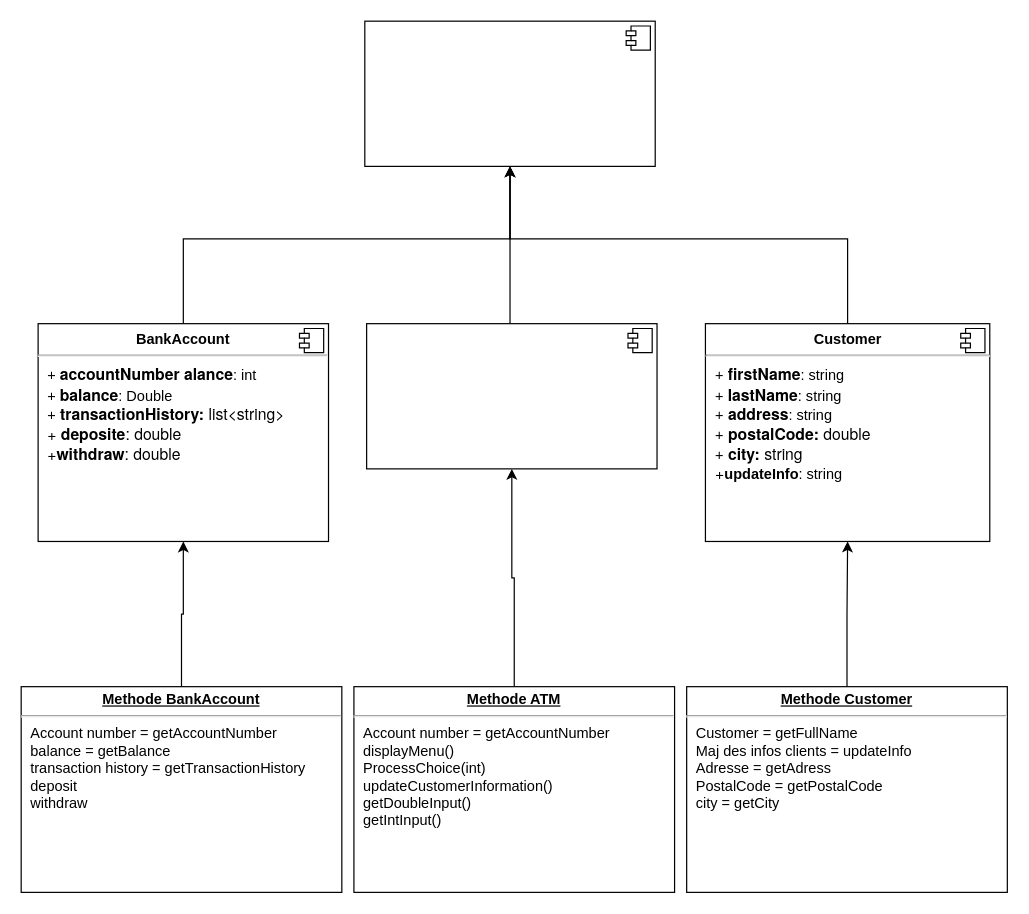
Some shapes in this 1029 by 914 pixel diagram are drawn without their labels. The shapes that lost their labels are listed below. From the top down, each one's centre as x and y in pixels, then its label:
(509,93): ATM + bankAccuount: BankAccount + customer: Customer -displayMenu
(511,395): Main + main: string
